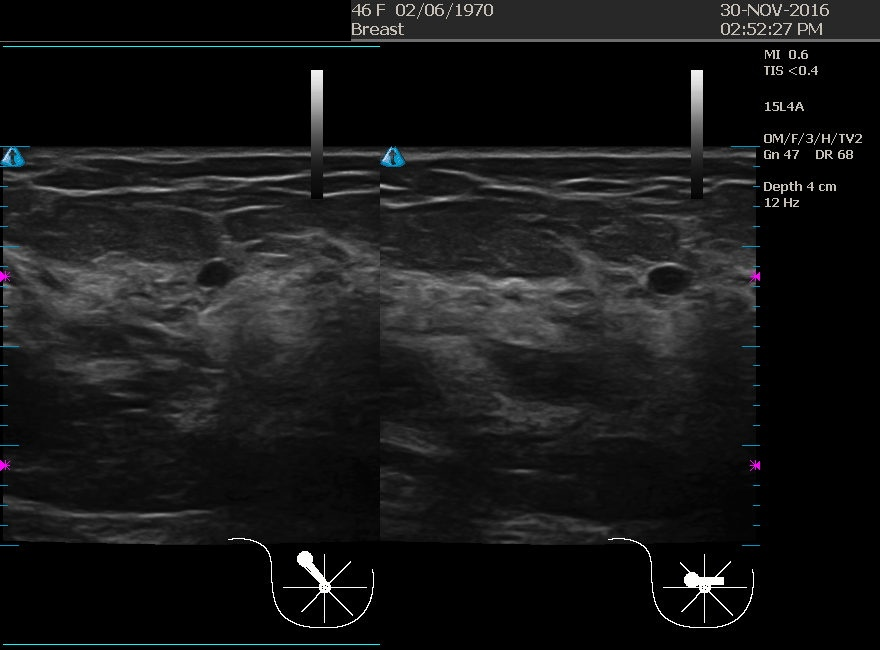BIRADS_2: (174, 202, 375, 402), (531, 255, 731, 455)
